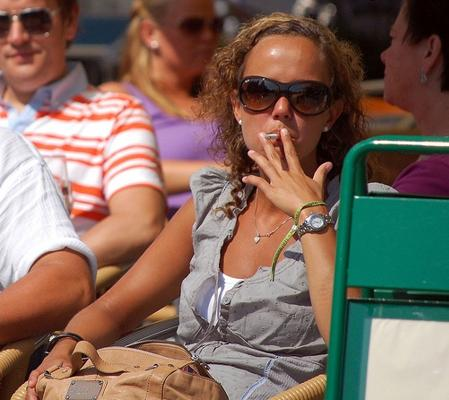person: (26, 15, 402, 400)
